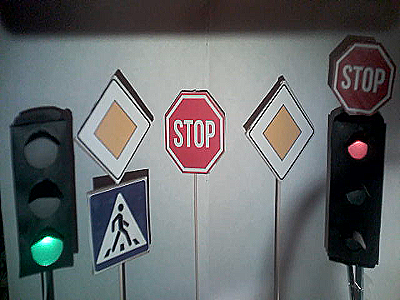crosswalk: (92, 191, 149, 261)
priority_road: (76, 77, 150, 182), (248, 84, 315, 180)
stop: (165, 91, 225, 175), (335, 45, 393, 113)
trafficlight_green: (19, 119, 71, 270)
trafficlight_red: (330, 121, 380, 261)
